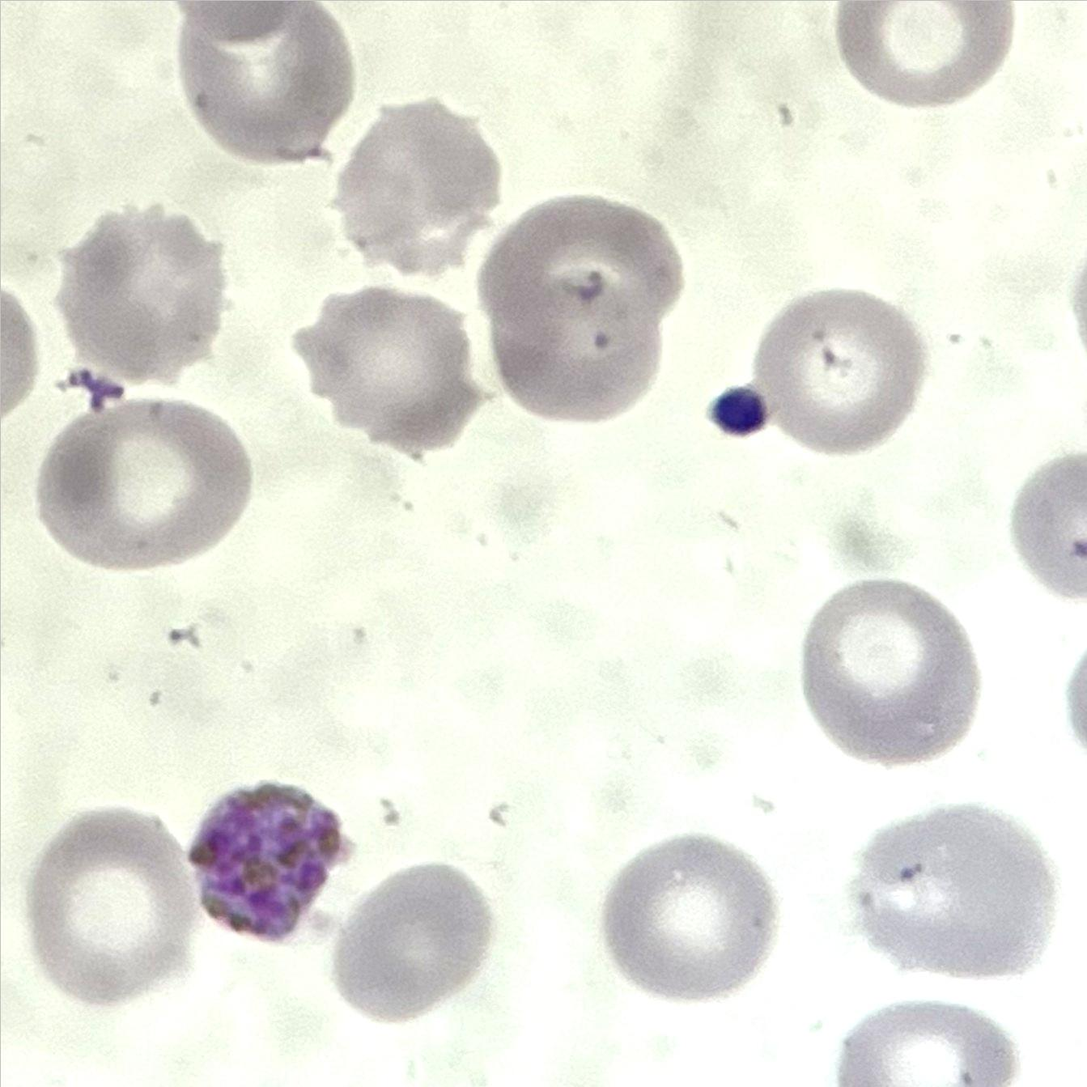Infected: (183, 778, 348, 940)
Uninfected: (24, 799, 204, 1005), (297, 281, 487, 464), (30, 406, 247, 564), (855, 805, 1048, 980), (801, 584, 974, 764), (483, 192, 679, 350), (175, 9, 352, 168), (335, 101, 501, 269), (65, 201, 226, 370), (602, 837, 767, 1000), (751, 292, 918, 447), (337, 862, 494, 1021), (502, 263, 648, 424), (835, 0, 1012, 103)
